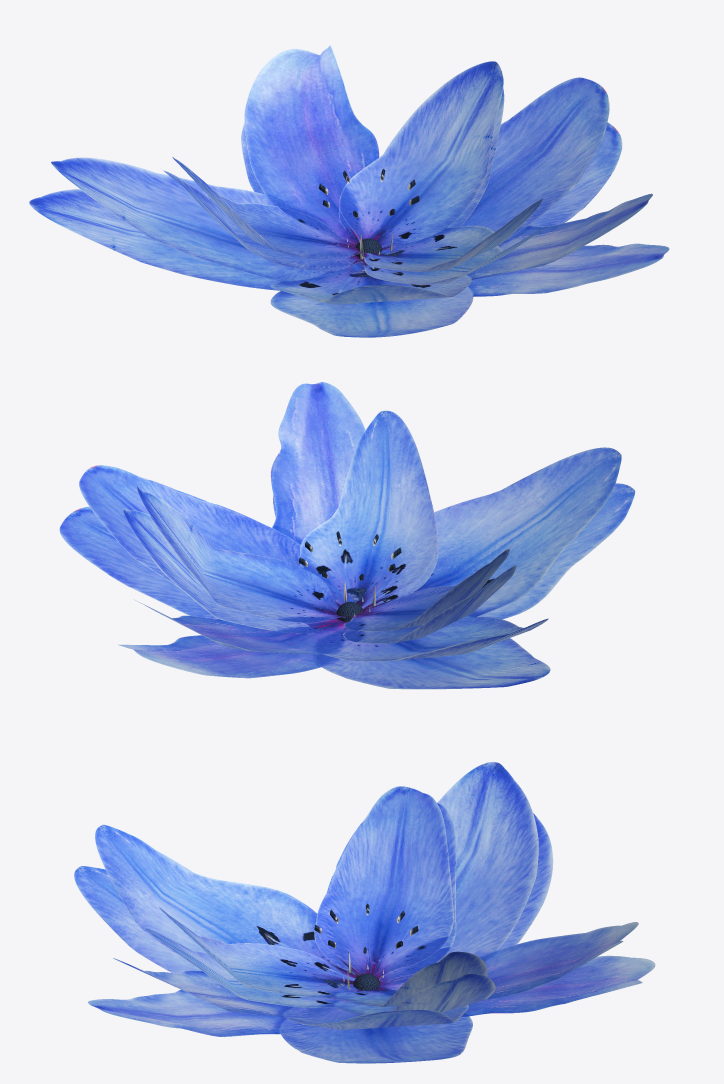
Rendered from B_Fleur_animated.FBX.
3 renders of one model, top to bottom at view 1: azimuth 30°, elevation 25°; view 2: azimuth 150°, elevation 25°; view 3: azimuth 270°, elevation 25°, orthographic.
Parts seen in each view (by area): view 1: B_Petals02, B_Petals, B_Petals02_back, B_Petals01_back, B_Fleur; view 2: B_Petals02, B_Petals, B_Petals02_back, B_Petals01_back, B_Fleur; view 3: B_Petals02, B_Petals, B_Petals02_back, B_Petals01_back, B_Fleur.
Part boxes in pixels (box(x1,y1,x2,y2)): B_Petals02: box(51, 45, 652, 304); B_Petals: box(172, 61, 542, 271); B_Petals02_back: box(29, 122, 669, 337); B_Petals01_back: box(163, 88, 550, 285); B_Fleur: box(319, 169, 419, 259); B_Petals02: box(79, 382, 621, 661); B_Petals: box(137, 410, 509, 631); B_Petals02_back: box(59, 483, 635, 689); B_Petals01_back: box(123, 508, 516, 643); B_Fleur: box(299, 531, 401, 621); B_Petals02: box(95, 761, 638, 1029); B_Petals: box(159, 786, 487, 1006); B_Petals02_back: box(74, 813, 655, 1063); B_Petals01_back: box(145, 802, 495, 1015); B_Fleur: box(314, 903, 418, 990).
Bounding box in the file's own units: 62.06 × 15.74 × 62.04.
